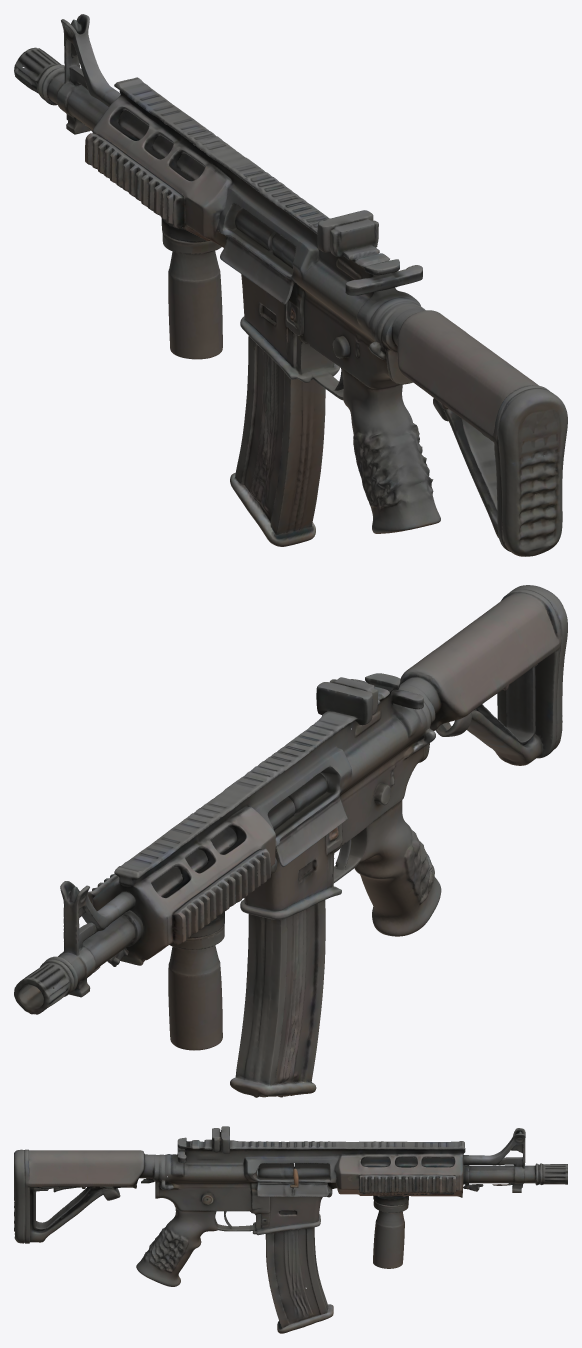
3 renders of one model, top to bottom at view 1: azimuth 30°, elevation 25°; view 2: azimuth 150°, elevation 25°; view 3: azimuth 270°, elevation 25°, orthographic. The views are drawn at different scales.
Parts seen in each view (by area): view 1: tripo_node_808188ad-6a9c-46a0-8f6f-7c0dadabeac3; view 2: tripo_node_808188ad-6a9c-46a0-8f6f-7c0dadabeac3; view 3: tripo_node_808188ad-6a9c-46a0-8f6f-7c0dadabeac3.
Part boxes in pixels (left/top/right/bottom): tripo_node_808188ad-6a9c-46a0-8f6f-7c0dadabeac3: left=14, top=14, right=567, bottom=556; tripo_node_808188ad-6a9c-46a0-8f6f-7c0dadabeac3: left=14, top=585, right=567, bottom=1097; tripo_node_808188ad-6a9c-46a0-8f6f-7c0dadabeac3: left=14, top=1126, right=567, bottom=1333.
Size of the model in its own units: 0.1125 by 0.3963 by 1.
Materials: 1 (1 with a texture image).
